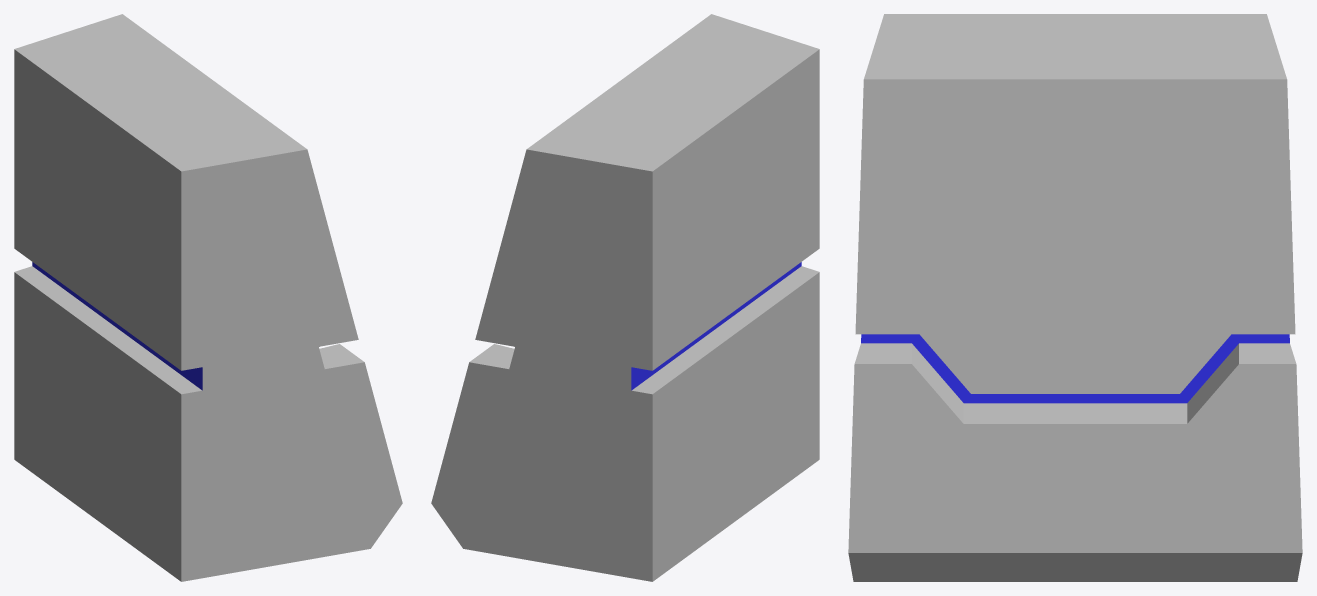
Rendered from x_ZAMOK_ZABOR_wall_part8_round_wall1_rmstrd.fbx.
The picture shows the model from 3 angles, left to right: view 1: azimuth 30°, elevation 25°; view 2: azimuth 150°, elevation 25°; view 3: azimuth 270°, elevation 25°; orthographic projection. The views are drawn at different scales.
Visible parts, largest first — view 1: x_ZAMOK_ZABOR_wall_part8_round_wall1_rmstrd1; view 2: x_ZAMOK_ZABOR_wall_part8_round_wall1_rmstrd1; view 3: x_ZAMOK_ZABOR_wall_part8_round_wall1_rmstrd1.
Part boxes in pixels (x1=…): x_ZAMOK_ZABOR_wall_part8_round_wall1_rmstrd1: x1=14, y1=14, x2=402, y2=581; x_ZAMOK_ZABOR_wall_part8_round_wall1_rmstrd1: x1=431, y1=14, x2=819, y2=581; x_ZAMOK_ZABOR_wall_part8_round_wall1_rmstrd1: x1=848, y1=14, x2=1302, y2=581.
Size of the model in its own units: 1.05 by 2 by 1.75.
